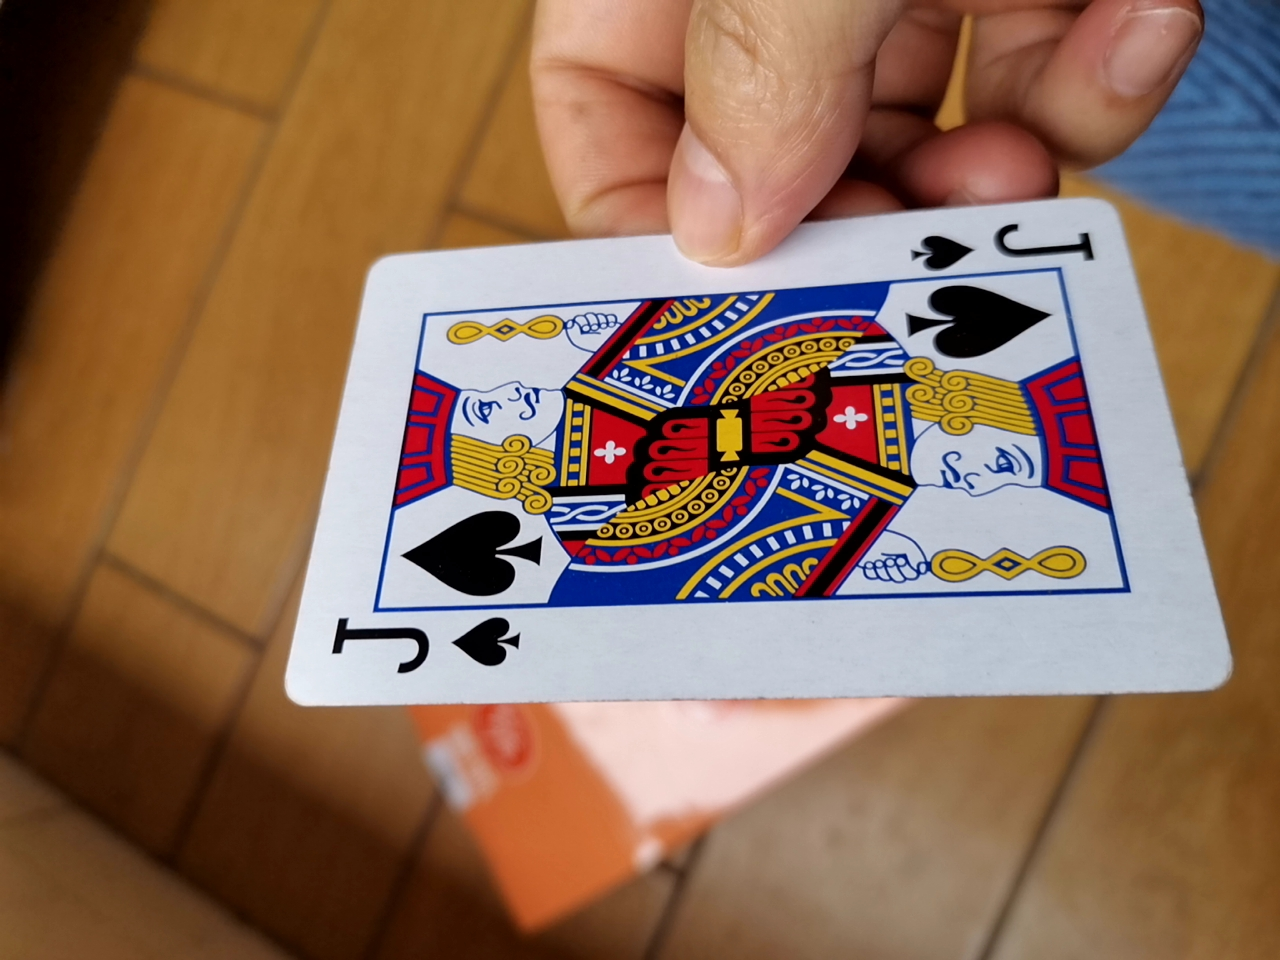ht j: (268, 198, 1221, 739)
